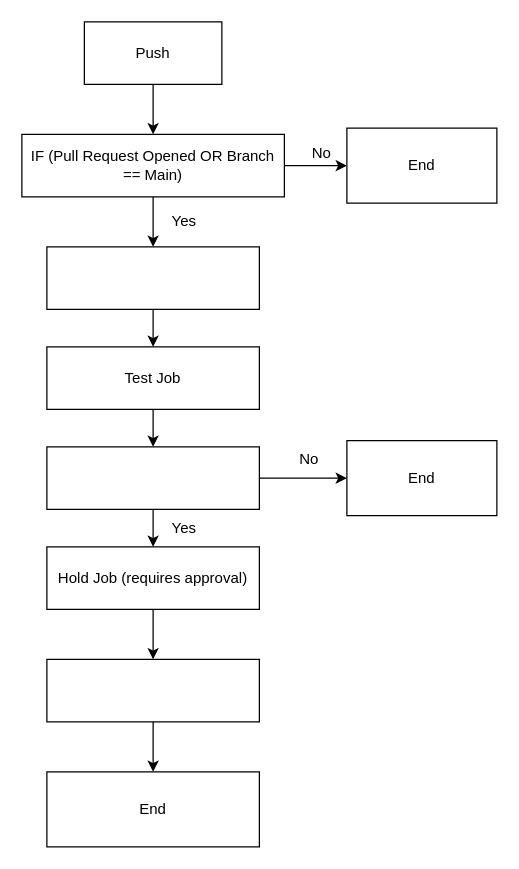
This 519x869 diagram has some shape labels left out. Here are the shapes that lost their labels. From the top down, the centre of each, then its label:
At [152,277]: "Build Job".
At [152,477]: "IF (Branch == Main)".
At [152,690]: "Deploy Job".
